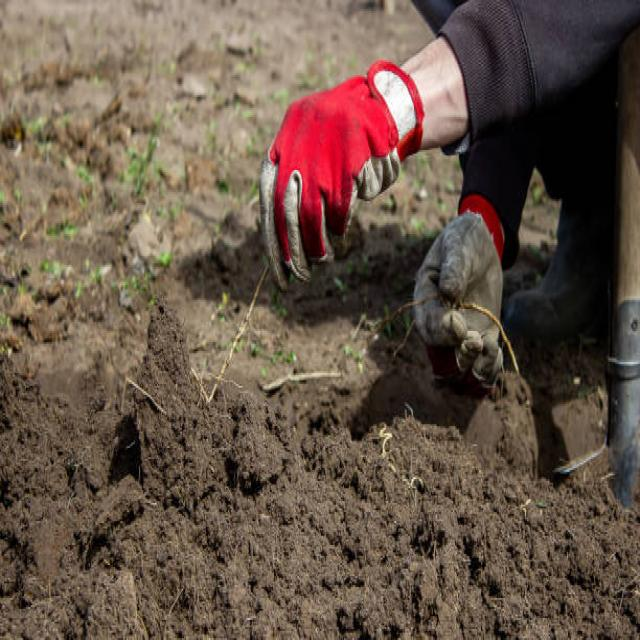Gloves: (258, 46, 438, 300), (413, 183, 518, 394)
